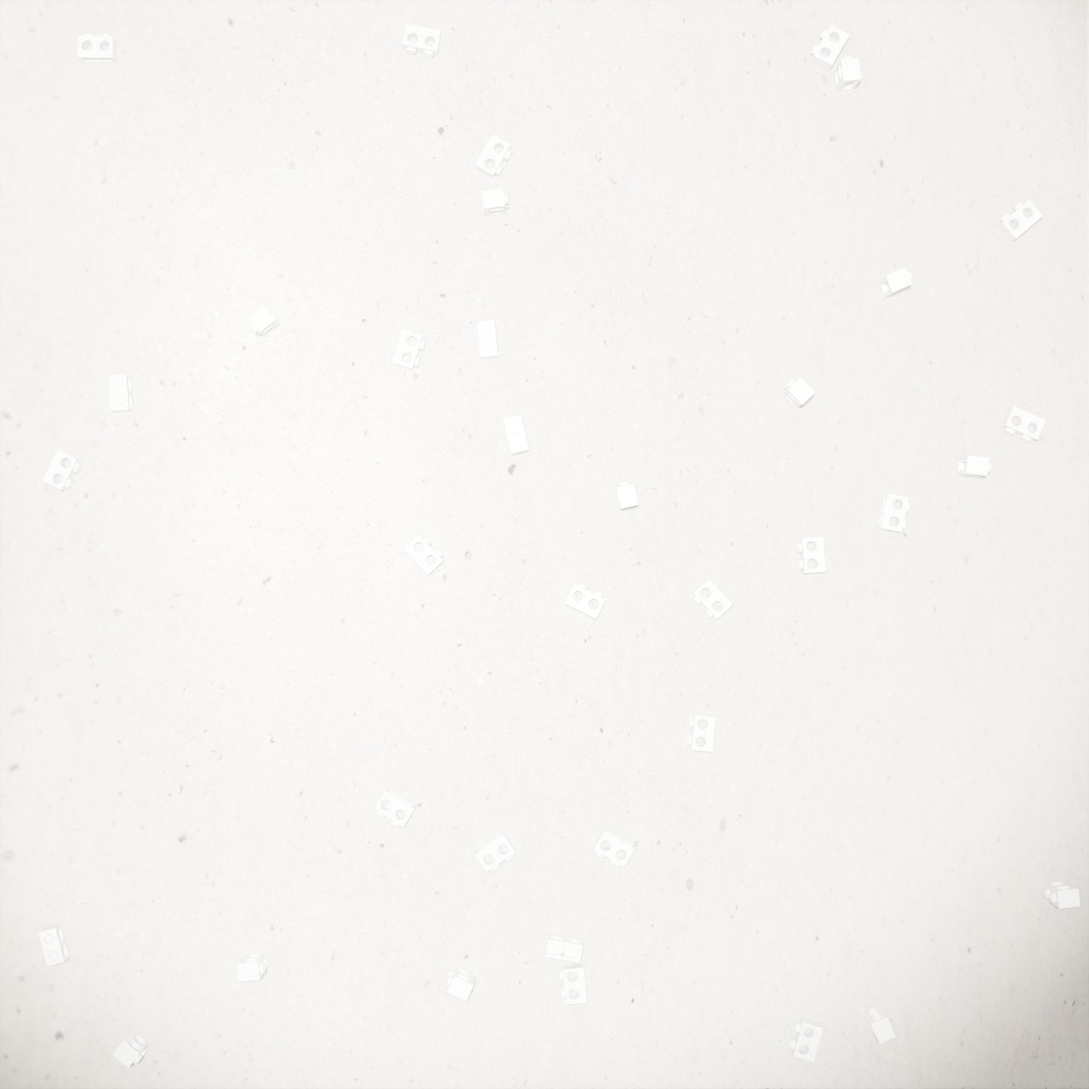lego: (997, 200, 1043, 242), (811, 24, 850, 71), (692, 578, 733, 619), (42, 449, 82, 491), (373, 788, 416, 827), (475, 134, 512, 179), (1000, 406, 1046, 442), (475, 832, 516, 872), (593, 828, 635, 867), (404, 535, 444, 575), (789, 1017, 824, 1062), (564, 582, 606, 619), (38, 923, 71, 967), (392, 329, 426, 371), (112, 1030, 149, 1068), (402, 23, 442, 58), (877, 493, 910, 532), (77, 33, 118, 63), (864, 1007, 896, 1044), (559, 963, 587, 1005), (687, 713, 716, 752), (545, 934, 583, 963), (248, 305, 282, 337), (878, 267, 913, 298), (445, 966, 475, 1001), (797, 537, 826, 573), (503, 415, 529, 455), (1044, 881, 1081, 909), (782, 377, 815, 408), (834, 56, 862, 92), (108, 374, 134, 412), (237, 953, 269, 982), (477, 320, 498, 359), (482, 188, 509, 216), (957, 456, 991, 477), (615, 481, 639, 509)
